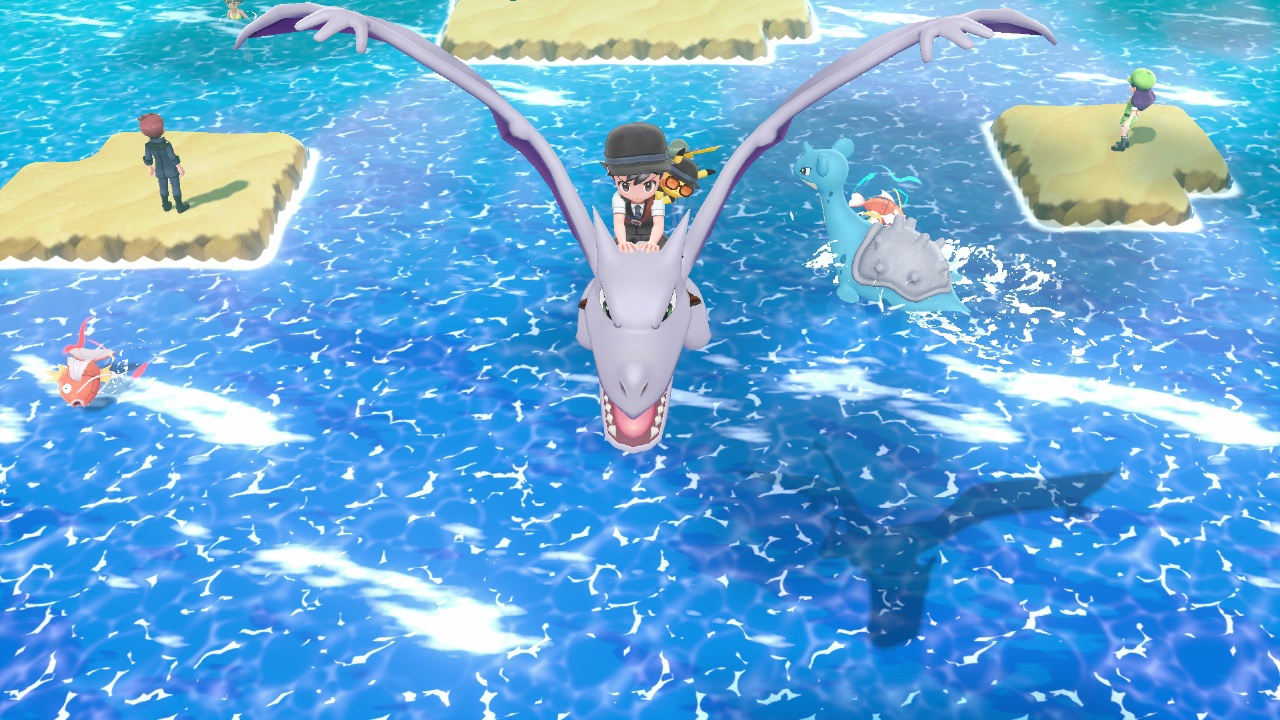Red: (51, 348, 117, 408), (849, 189, 906, 221)
